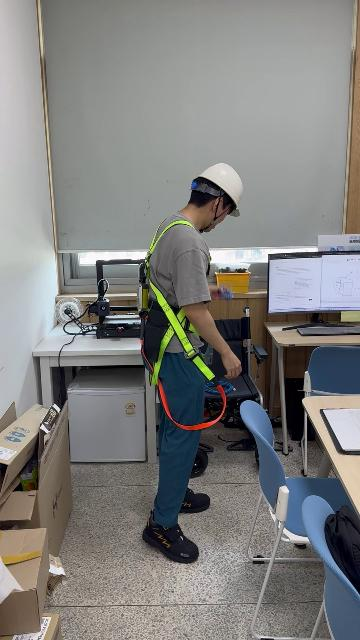helmet_worn: (191, 162, 244, 216)
shoe_worn: (143, 509, 199, 563), (178, 488, 210, 513)
vest_worn: (138, 222, 210, 369)
